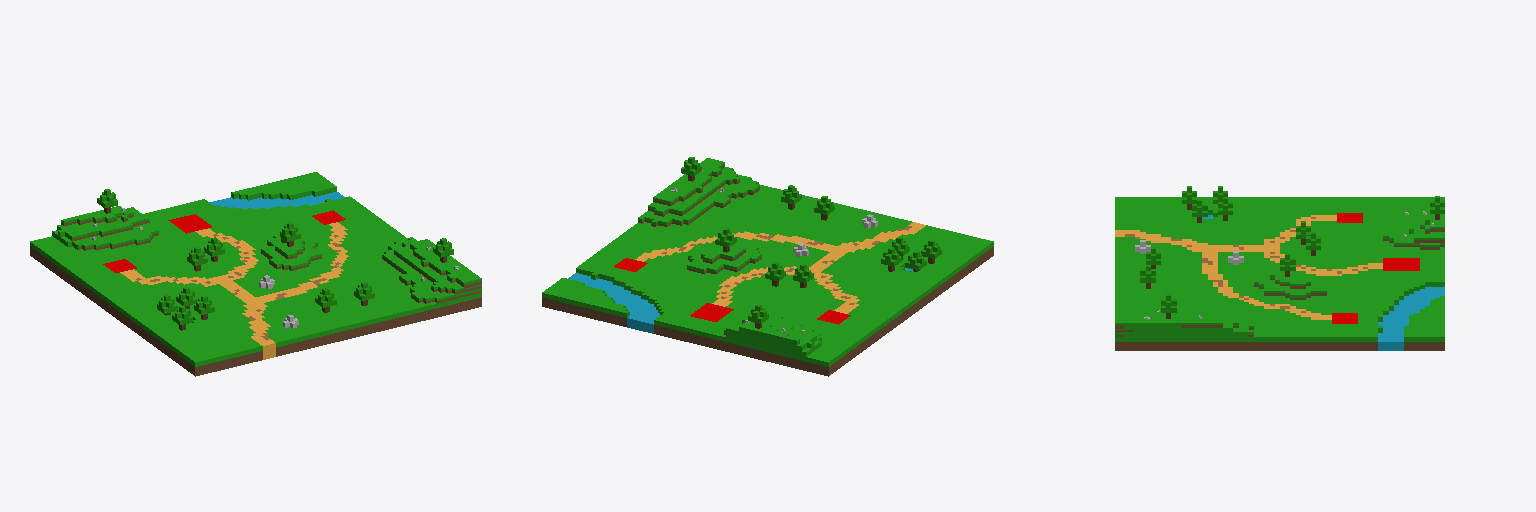
The picture shows the model from 3 angles: view 1: azimuth 30°, elevation 25°; view 2: azimuth 150°, elevation 25°; view 3: azimuth 270°, elevation 25°; orthographic projection.
Parts seen in each view (by area): view 1: object 1; view 2: object 1; view 3: object 1.
Part boxes in pixels (x1,y1,x2,y2): object 1: (30,172,481,376); object 1: (542,157,993,376); object 1: (1115,186,1444,350).
Bounding box in the file's own units: 25.6 × 4.3 × 25.6.
Materials: 1 (1 with a texture image).